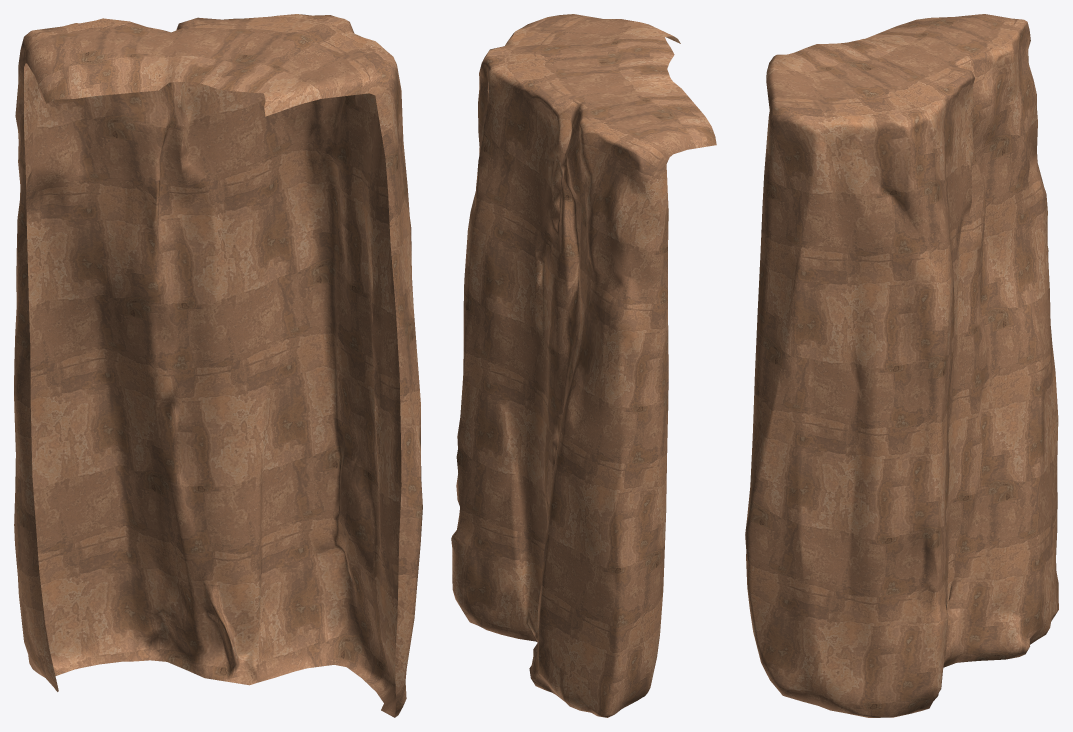
The model's file is Ob_RockCliff04.fbx.
3 views of the same model, side by side, from view 1: azimuth 30°, elevation 25°; view 2: azimuth 150°, elevation 25°; view 3: azimuth 270°, elevation 25° (orthographic). The views are drawn at different scales.
Parts seen in each view (by area): view 1: Ob_RockCliff04; view 2: Ob_RockCliff04; view 3: Ob_RockCliff04.
Boxes of the visible parts, left/top/right/bottom form: Ob_RockCliff04: left=14, top=14, right=422, bottom=717; Ob_RockCliff04: left=451, top=14, right=716, bottom=717; Ob_RockCliff04: left=745, top=14, right=1058, bottom=717.
Size of the model in its own units: 51192 by 106967 by 50581.
